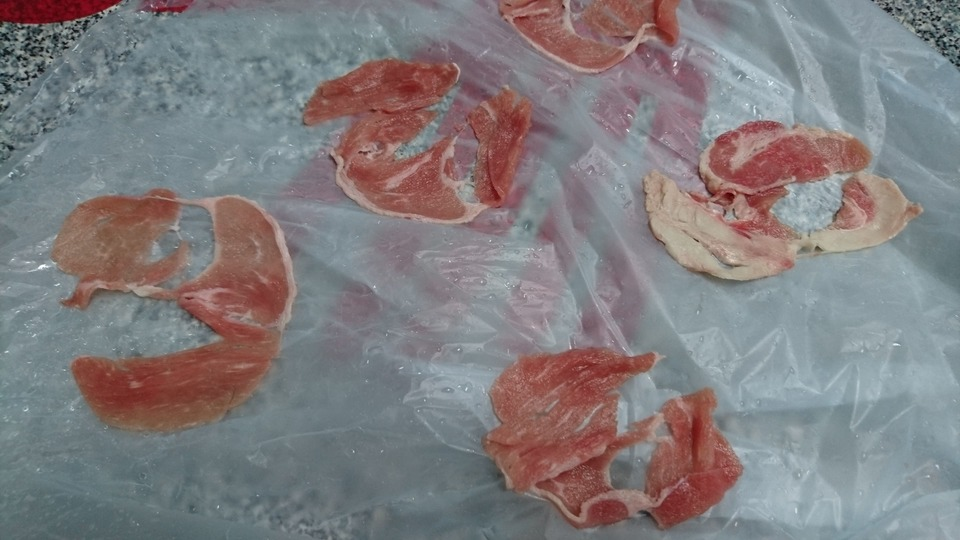restructured meat: (57, 180, 301, 441), (466, 352, 743, 522), (660, 115, 927, 291), (298, 57, 529, 216), (502, 6, 705, 85)
